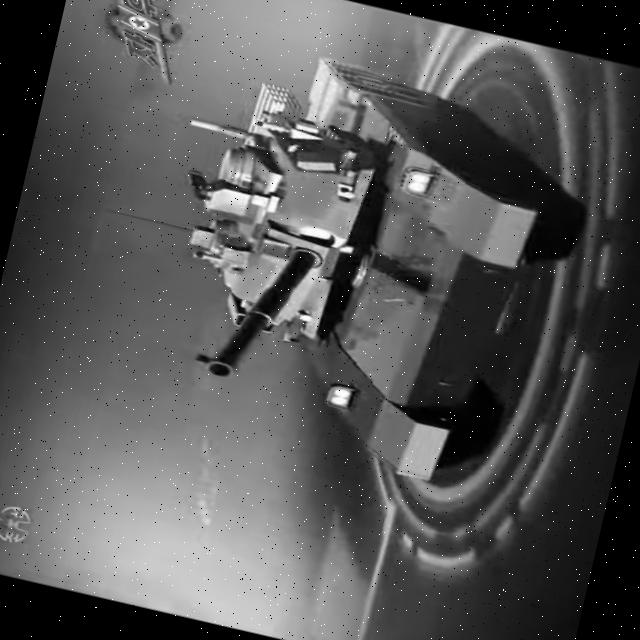north tank: (95, 4, 634, 532)
